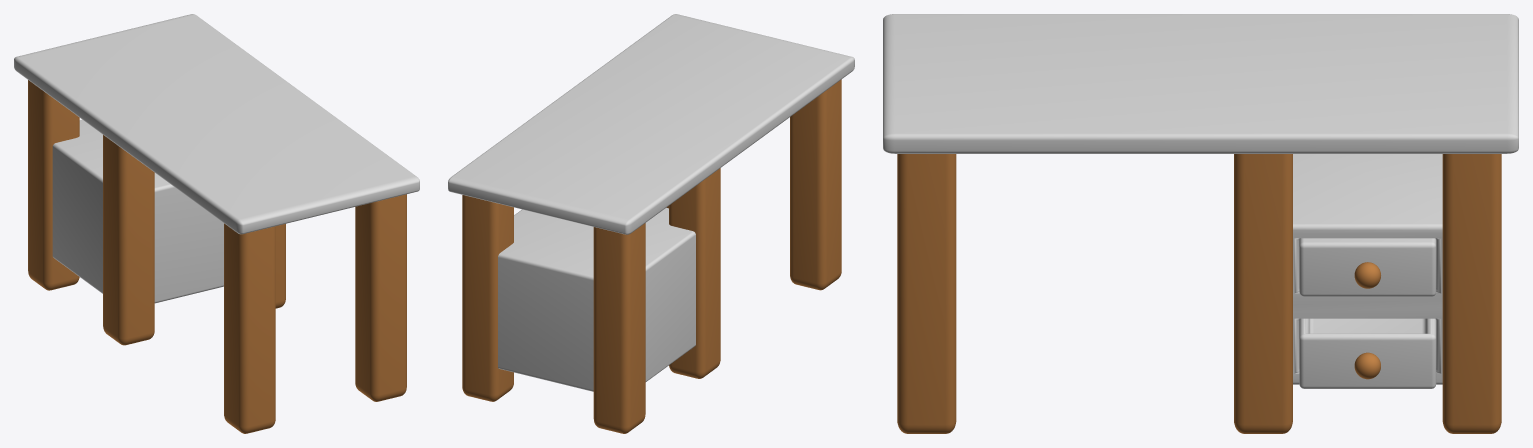
The model's file is simple_desk_B.obj.
The picture shows the model from 3 angles, left to right: view 1: azimuth 30°, elevation 25°; view 2: azimuth 150°, elevation 25°; view 3: azimuth 270°, elevation 25°; orthographic projection. The views are drawn at different scales.
Parts seen in each view (by area): view 1: simple_desk_B; view 2: simple_desk_B; view 3: simple_desk_B.
Part boxes in pixels (x1=…): simple_desk_B: x1=14, y1=14, x2=419, y2=433; simple_desk_B: x1=448, y1=14, x2=854, y2=433; simple_desk_B: x1=883, y1=14, x2=1518, y2=433.
Size of the model in its own units: 0.8503 by 0.8604 by 1.61.
